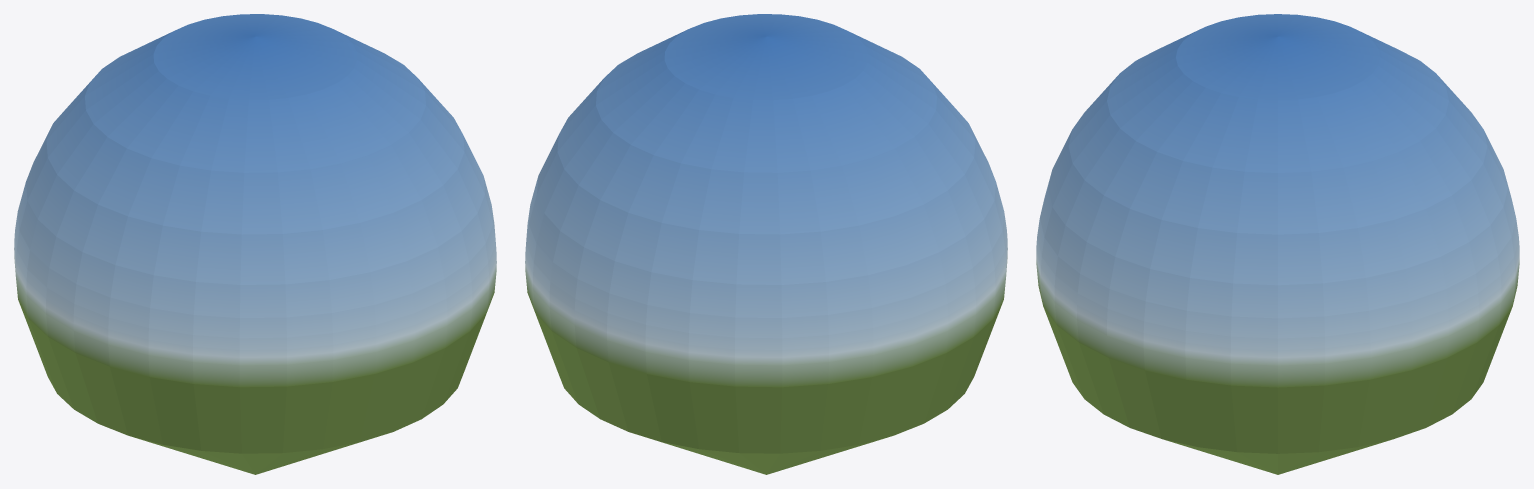
The model's file is sky-country.glb.
3 views of the same model, side by side, from view 1: azimuth 30°, elevation 25°; view 2: azimuth 150°, elevation 25°; view 3: azimuth 270°, elevation 25° (orthographic).
Parts seen in each view (by area): view 1: dome; view 2: dome; view 3: dome.
Part boxes in pixels (bbox=[...]): dome: bbox=[14, 14, 496, 474]; dome: bbox=[525, 14, 1007, 474]; dome: bbox=[1036, 14, 1519, 474].
Size of the model in its own units: 18000 by 18000 by 18000.
